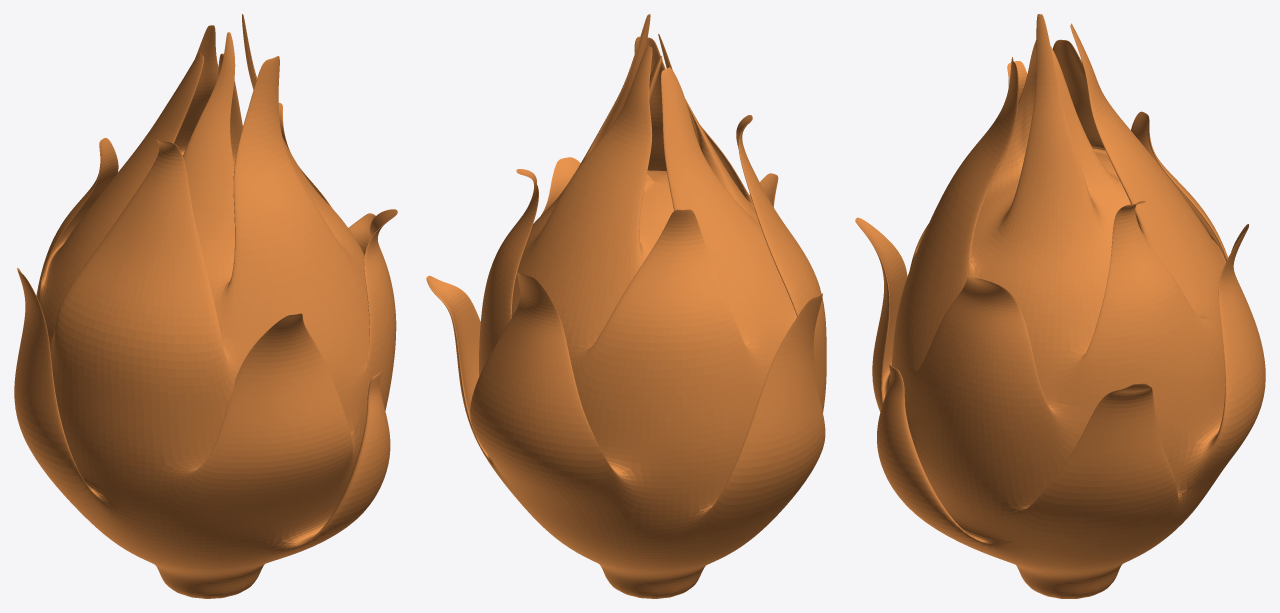
File: dragonfruit.fbx
3 views of the same model, side by side, from view 1: azimuth 30°, elevation 25°; view 2: azimuth 150°, elevation 25°; view 3: azimuth 270°, elevation 25° (orthographic). The views are drawn at different scales.
Parts seen in each view (by area): view 1: Sphere; view 2: Sphere; view 3: Sphere.
Part boxes in pixels (box(x1,y1,x2,y2)): Sphere: box(14, 14, 397, 598); Sphere: box(426, 14, 826, 598); Sphere: box(855, 14, 1265, 598).
Size of the model in its own units: 202 by 293 by 187.
